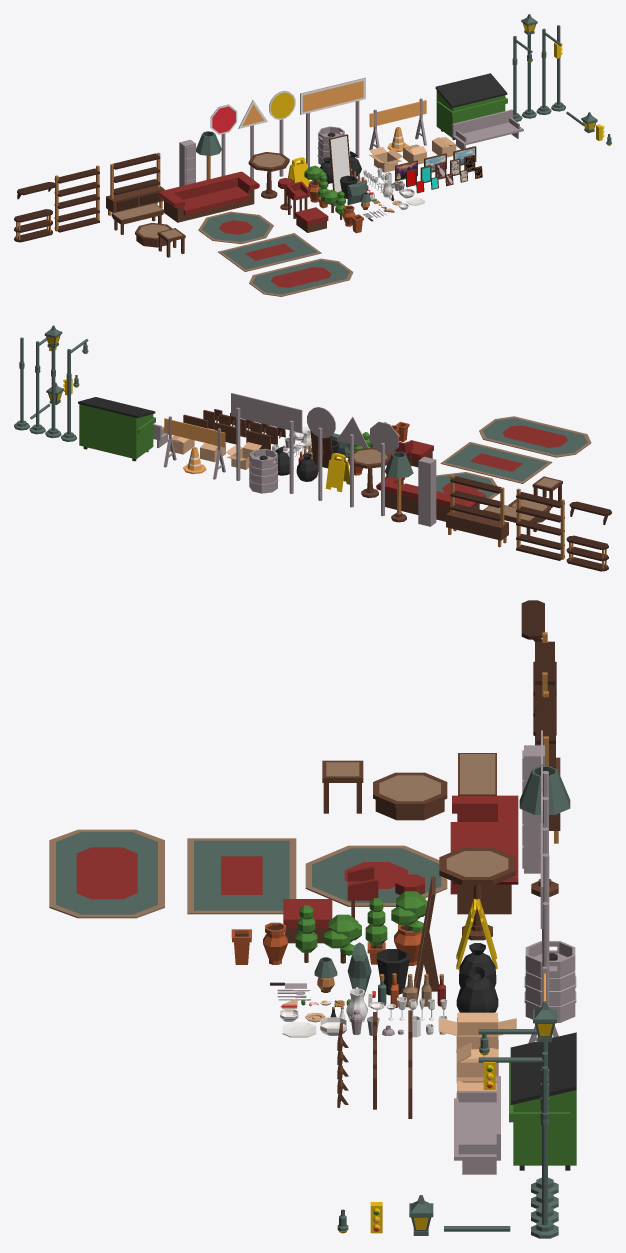
Rendered from StreetAndBarProps.fbx.
3 views of the same model, one above another, from view 1: azimuth 30°, elevation 25°; view 2: azimuth 150°, elevation 25°; view 3: azimuth 270°, elevation 25° (orthographic). The views are drawn at different scales.
Visible parts, largest first — view 1: Chair_Lounge, Dumpster, Rug_Rounded, Shelf_Cabinet, Rug_Rectangle, Sign_Road_Long, Rug_Round, Shelf_Tall, Chair_Bench, Sign_Road_Block, Mirror, Shelf_Short (+18 smaller); view 2: Dumpster, Rug_Rounded, Shelf_Cabinet, Rug_Rectangle, Sign_Road_Long, Shelf_Tall, Chair_Lounge, Sign_Road_Block, Locker, Keg, Shelf_Short, Sign_Road_Circle (+19 smaller); view 3: Rug_Rounded, Rug_Rectangle, Dumpster, Chair_Lounge, Rug_Round, Chair_Bench, Keg, Table_Coffee_Round, Table_Bar, Light_Lamp_Tall, Plant_Potted_2, Box_Open (+24 smaller).
Boxes of the visible parts, x1,y1,x2,y2 form: Chair_Lounge: (158, 171, 259, 222); Dumpster: (435, 73, 507, 139); Rug_Rounded: (249, 258, 353, 296); Shelf_Cabinet: (106, 152, 164, 215); Rug_Rectangle: (218, 233, 321, 271); Sign_Road_Long: (300, 77, 365, 167); Rug_Round: (198, 211, 273, 244); Shelf_Tall: (54, 165, 99, 232); Chair_Bench: (452, 109, 523, 149); Sign_Road_Block: (369, 98, 426, 149); Mirror: (329, 134, 351, 192); Shelf_Short: (14, 209, 52, 242); Dumpster: (78, 397, 155, 461); Rug_Rounded: (479, 416, 591, 457); Shelf_Cabinet: (446, 475, 508, 547); Rug_Rectangle: (440, 442, 552, 483); Sign_Road_Long: (231, 393, 302, 493); Shelf_Tall: (516, 488, 564, 560); Chair_Lounge: (376, 476, 485, 521); Sign_Road_Block: (163, 416, 225, 479); Locker: (418, 456, 436, 526); Keg: (249, 448, 278, 493); Shelf_Short: (566, 535, 608, 571); Sign_Road_Circle: (307, 407, 335, 500); Rug_Rounded: (49, 829, 164, 918); Rug_Rectangle: (187, 838, 296, 914); Dumpster: (509, 1032, 576, 1170); Chair_Lounge: (450, 795, 518, 914); Rug_Round: (305, 845, 447, 906); Chair_Bench: (454, 1076, 500, 1174); Keg: (524, 941, 576, 1022); Table_Coffee_Round: (373, 772, 447, 820); Table_Bar: (439, 847, 515, 940); Light_Lamp_Tall: (519, 766, 570, 896); Plant_Potted_2: (391, 891, 427, 965); Box_Open: (438, 1012, 516, 1049).
Size of the model in its own units: 37.67 by 6.66 by 15.66.
